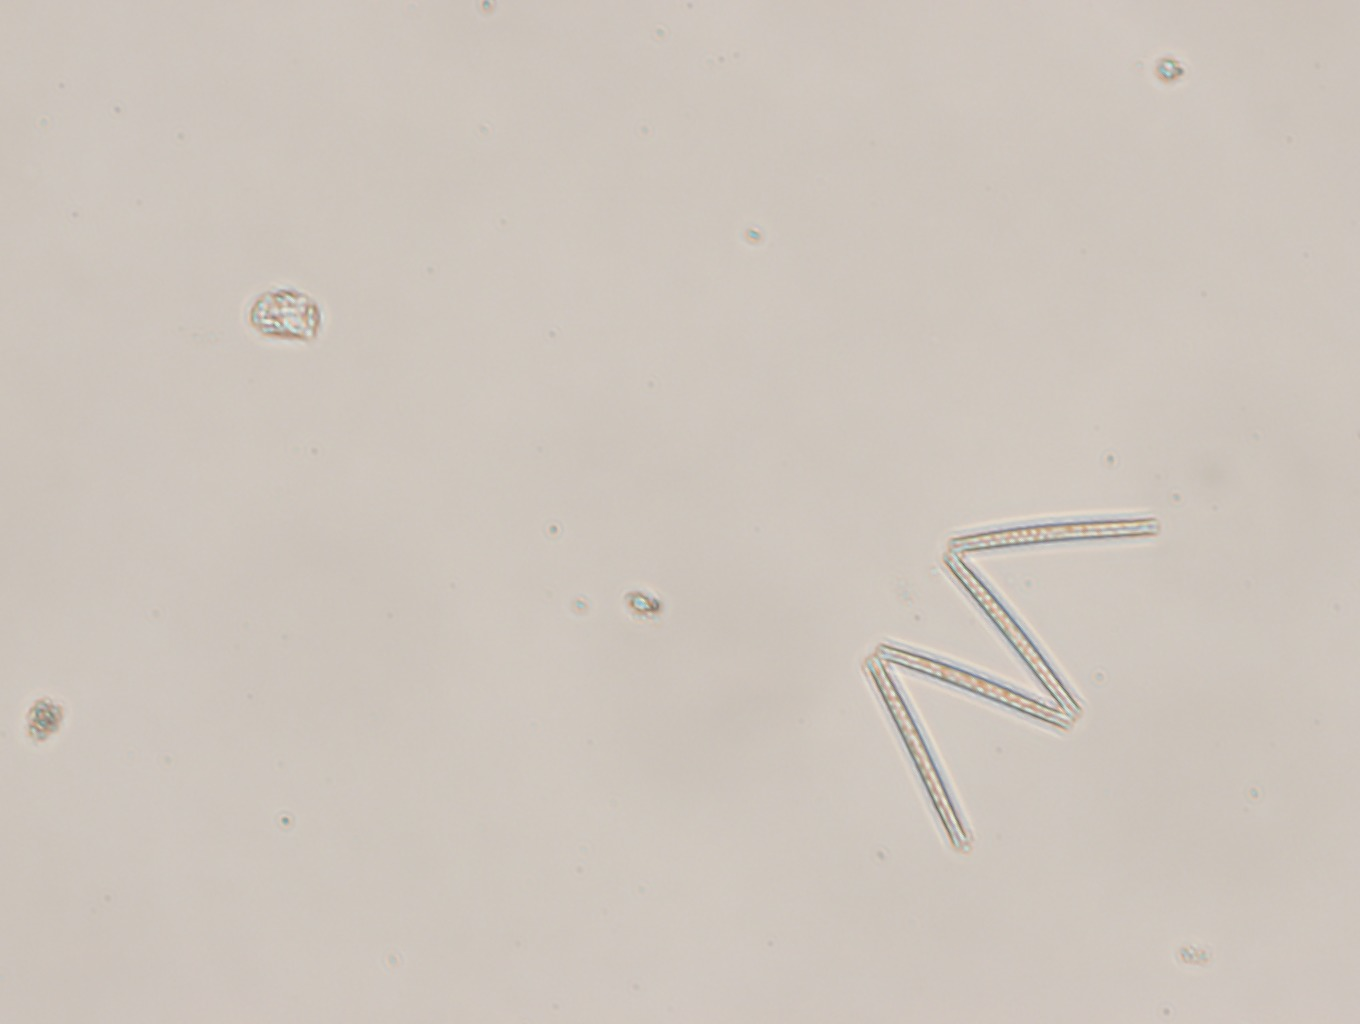thalassionema nitzschioides: (849, 509, 1166, 858)
